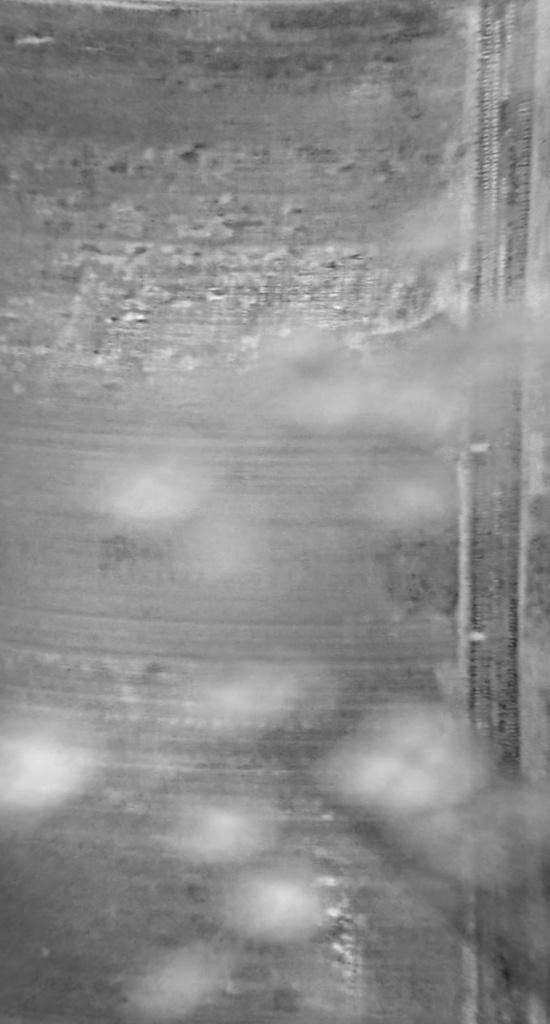splice: (453, 1, 550, 1022)
